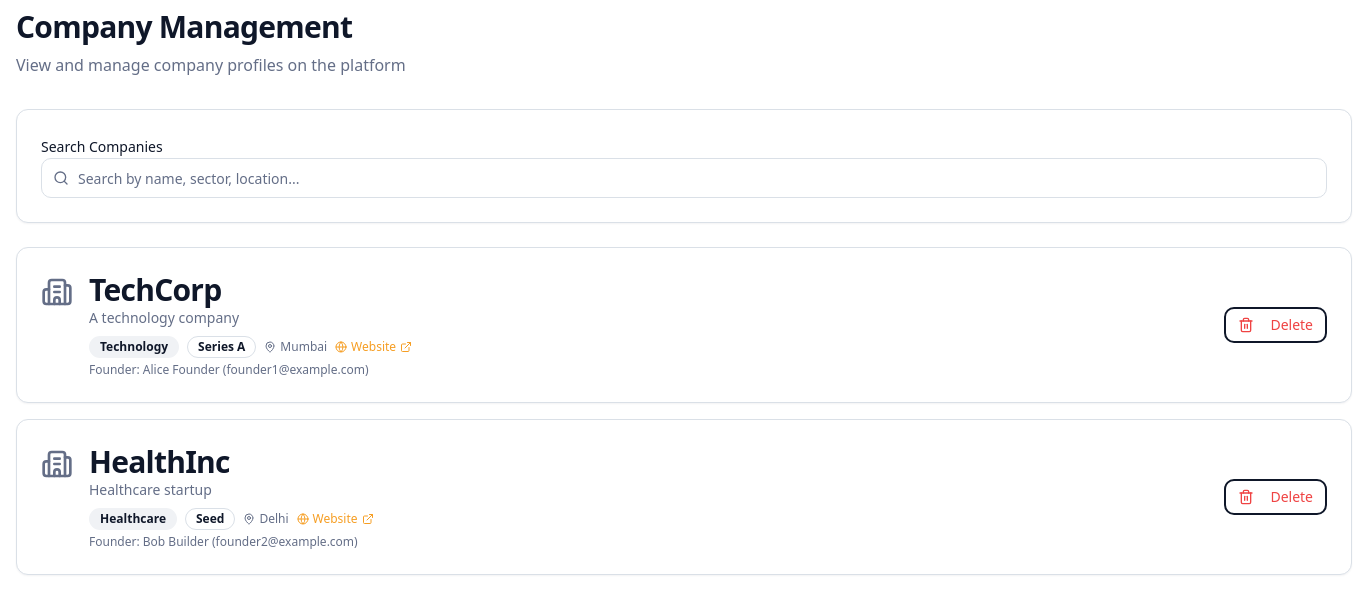
Scenario: US-ADMIN-CRUD-004: Company Management Page › Search and Filter › should filter companies by search query
This screenshot has width=1369, height=592.
Expected: the heading "TechCorp" is shown, [89,269,221,310]
Step 1. Type "Health" into the field with placeholder "Search by name, sector, location..." → [684, 178], box [41,158,1327,198]
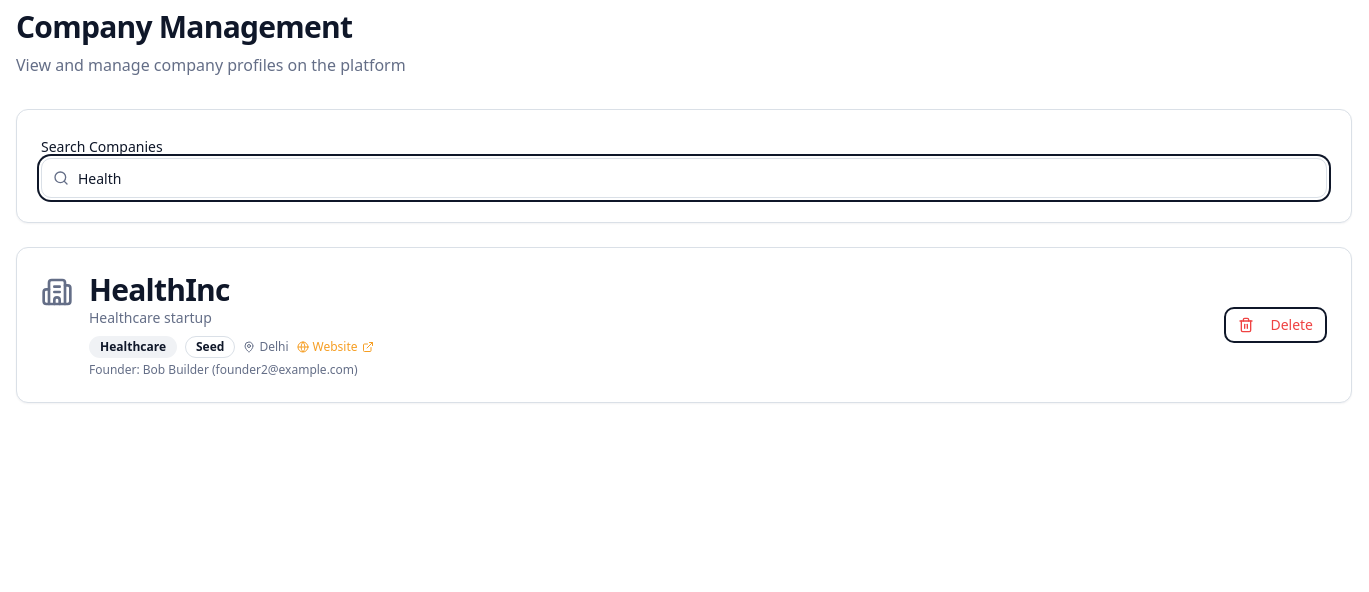
Expected: the heading "HealthInc" is shown, [89,269,230,310]
Expected: the heading "TechCorp" is gone
